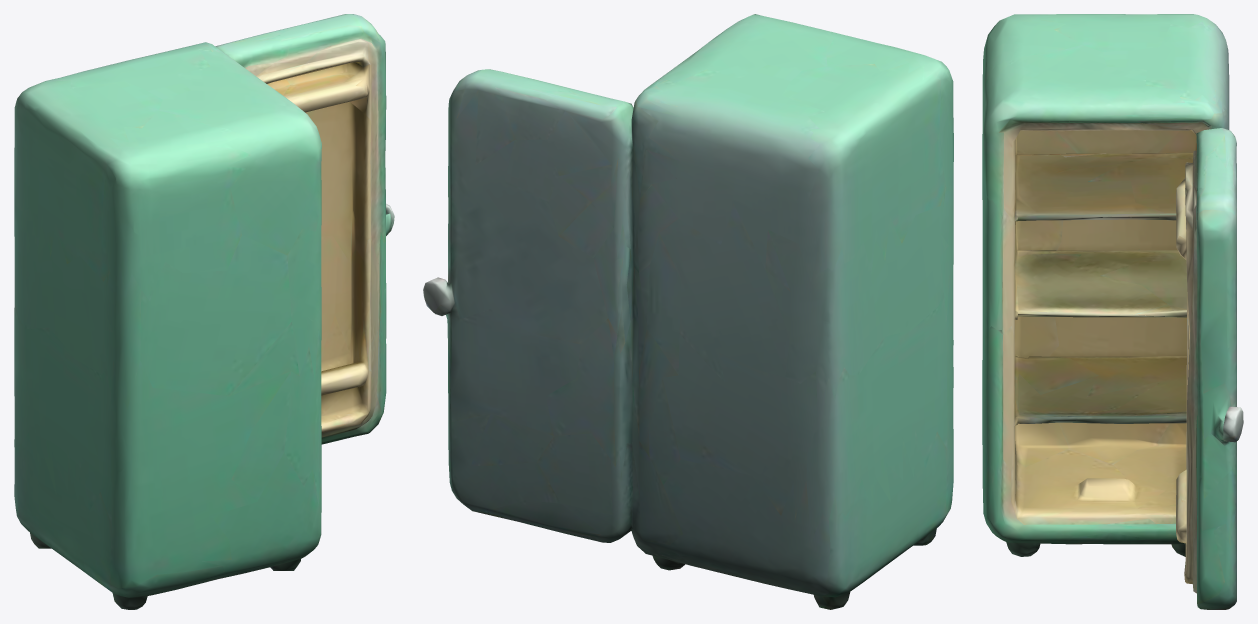
File: fridge.glb
The picture shows the model from 3 angles, left to right: view 1: azimuth 30°, elevation 25°; view 2: azimuth 150°, elevation 25°; view 3: azimuth 270°, elevation 25°; orthographic projection. The views are drawn at different scales.
Visible parts, largest first — view 1: tripo_node_d277fe75-d18f-4b81-b0bc-a31b249418ad; view 2: tripo_node_d277fe75-d18f-4b81-b0bc-a31b249418ad; view 3: tripo_node_d277fe75-d18f-4b81-b0bc-a31b249418ad.
Boxes of the visible parts, left/top/right/bottom form: tripo_node_d277fe75-d18f-4b81-b0bc-a31b249418ad: left=14, top=14, right=394, bottom=609; tripo_node_d277fe75-d18f-4b81-b0bc-a31b249418ad: left=423, top=14, right=953, bottom=609; tripo_node_d277fe75-d18f-4b81-b0bc-a31b249418ad: left=982, top=14, right=1243, bottom=609.
Size of the model in its own units: 0.8909 by 1 by 0.5139.
Materials: 1 (1 with a texture image).
